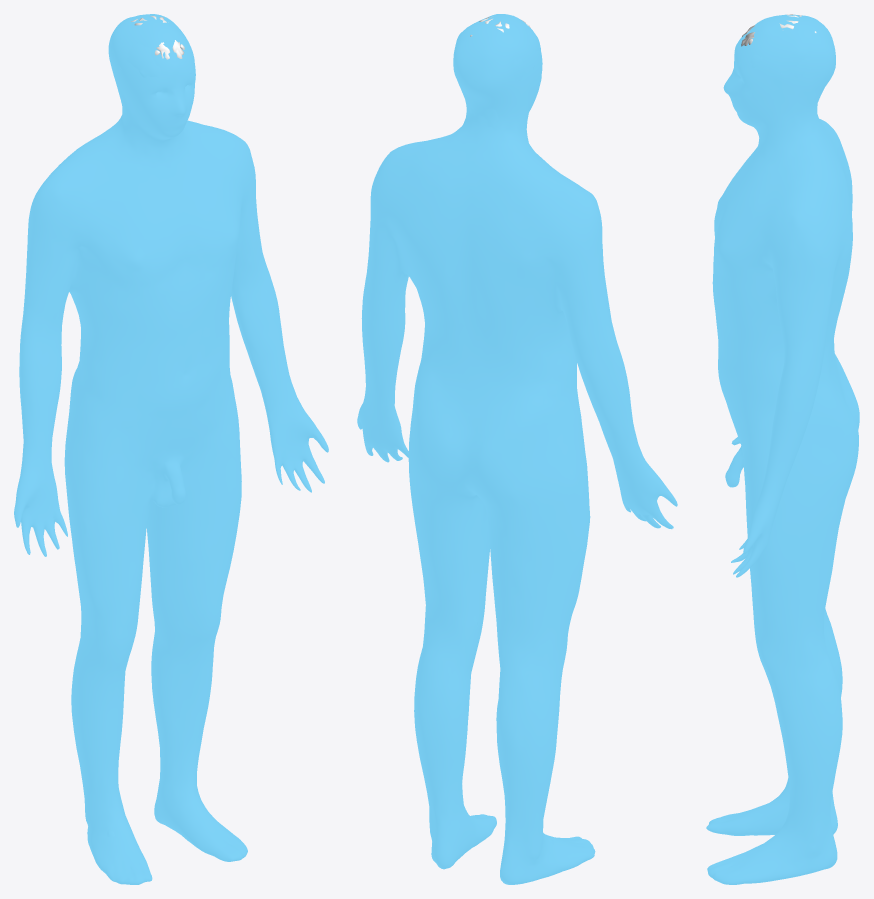
Rendered from human_anatomy_simulator.glb.
3 renders of one model, left to right at view 1: azimuth 30°, elevation 25°; view 2: azimuth 150°, elevation 25°; view 3: azimuth 270°, elevation 25°, orthographic. The views are drawn at different scales.
Visible parts, largest first — view 1: Body; view 2: Body; view 3: Body.
Part boxes in pixels (left/top/right/bottom): Body: left=14, top=14, right=328, bottom=884; Body: left=357, top=14, right=677, bottom=884; Body: left=706, top=14, right=859, bottom=884.
Bounding box in the file's own units: 0.6486 × 1.64 × 0.2735.
